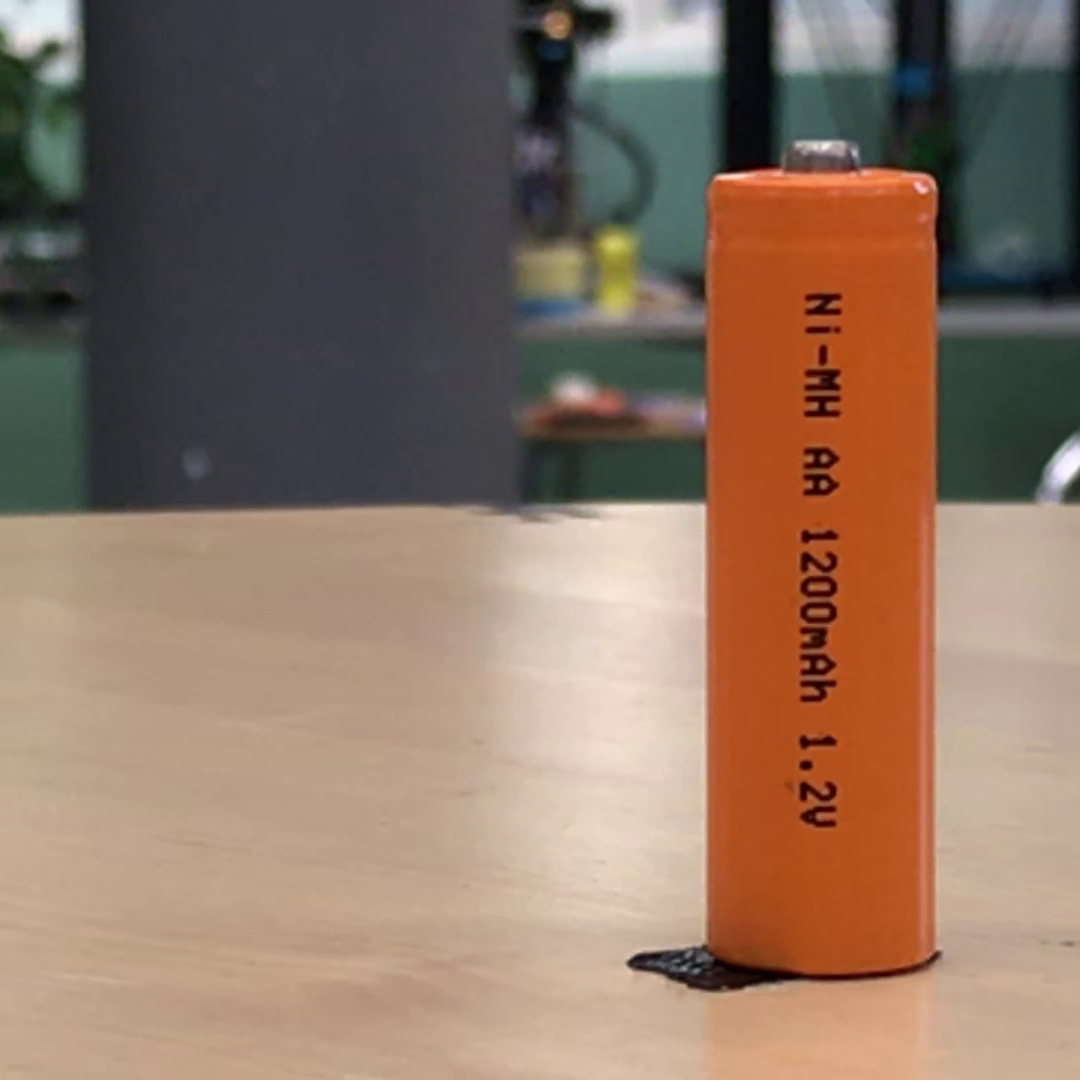keyword: (795, 283, 850, 427), (789, 725, 847, 838)
